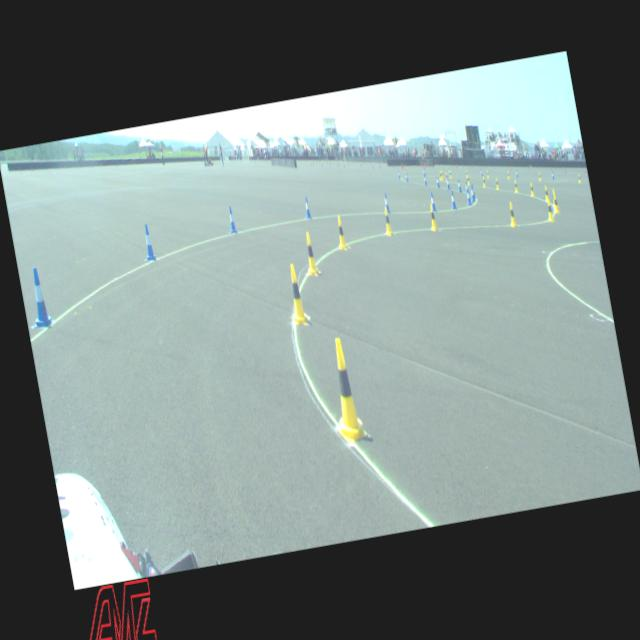blue_cone: (24, 266, 52, 326), (140, 222, 156, 260), (226, 204, 237, 233), (303, 196, 312, 220), (449, 189, 457, 209), (383, 192, 390, 212), (429, 191, 436, 211), (464, 187, 471, 205), (469, 184, 475, 201), (470, 182, 476, 198), (464, 180, 469, 196), (434, 175, 440, 187), (456, 178, 461, 192), (445, 177, 450, 190), (422, 173, 427, 184), (396, 169, 401, 178), (403, 168, 408, 177), (550, 170, 554, 180), (404, 172, 408, 181), (479, 168, 482, 176), (515, 169, 518, 177), (422, 167, 425, 175)
yellow_cone: (321, 336, 368, 444), (283, 262, 309, 326), (301, 231, 319, 277), (333, 214, 348, 250), (382, 207, 392, 236), (427, 204, 438, 230), (506, 201, 516, 227), (545, 199, 554, 222), (551, 193, 559, 213), (543, 185, 550, 202), (550, 188, 556, 206), (528, 182, 534, 196), (494, 177, 500, 189), (513, 178, 518, 192), (481, 176, 486, 187), (466, 173, 470, 184), (438, 170, 442, 179), (448, 169, 452, 178), (444, 172, 448, 181), (506, 170, 510, 178), (538, 172, 542, 180), (577, 174, 581, 182), (464, 170, 468, 177), (486, 169, 489, 178), (440, 169, 443, 178)
